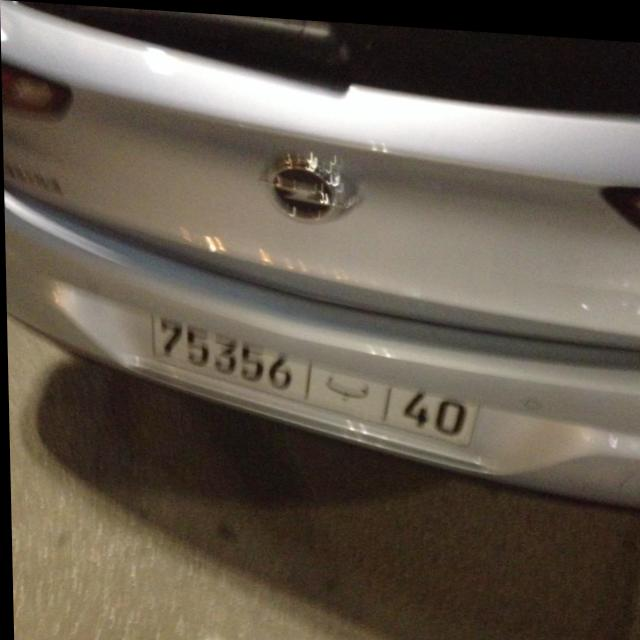License-Plate: (151, 312, 480, 439)
